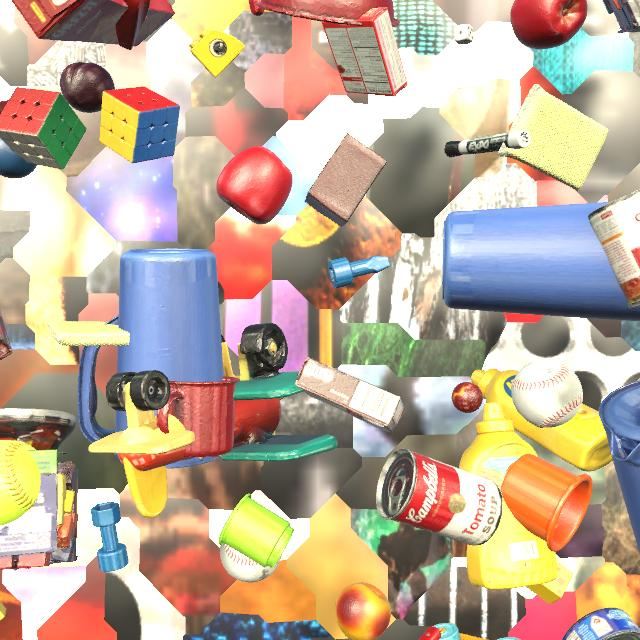ycb_003_cracker_box: (11, 0, 175, 47)
ycb_004_sugar_box: (629, 28, 640, 33)
ycb_005_tomato_soup_can: (376, 448, 503, 545), (588, 189, 640, 309)
ycb_006_mustard_bottle: (459, 402, 557, 589), (471, 368, 613, 472)
ycb_007_tuna_fish_can: (562, 607, 640, 640)
ycb_008_pudding_box: (295, 357, 404, 433), (0, 311, 12, 360)
ycb_009_gelatin_box: (322, 7, 408, 97)
ycb_013_apple: (216, 146, 293, 225), (510, 0, 587, 49)
ycb_015_peach: (334, 582, 391, 640)
ycb_018_plum: (60, 62, 115, 113)
